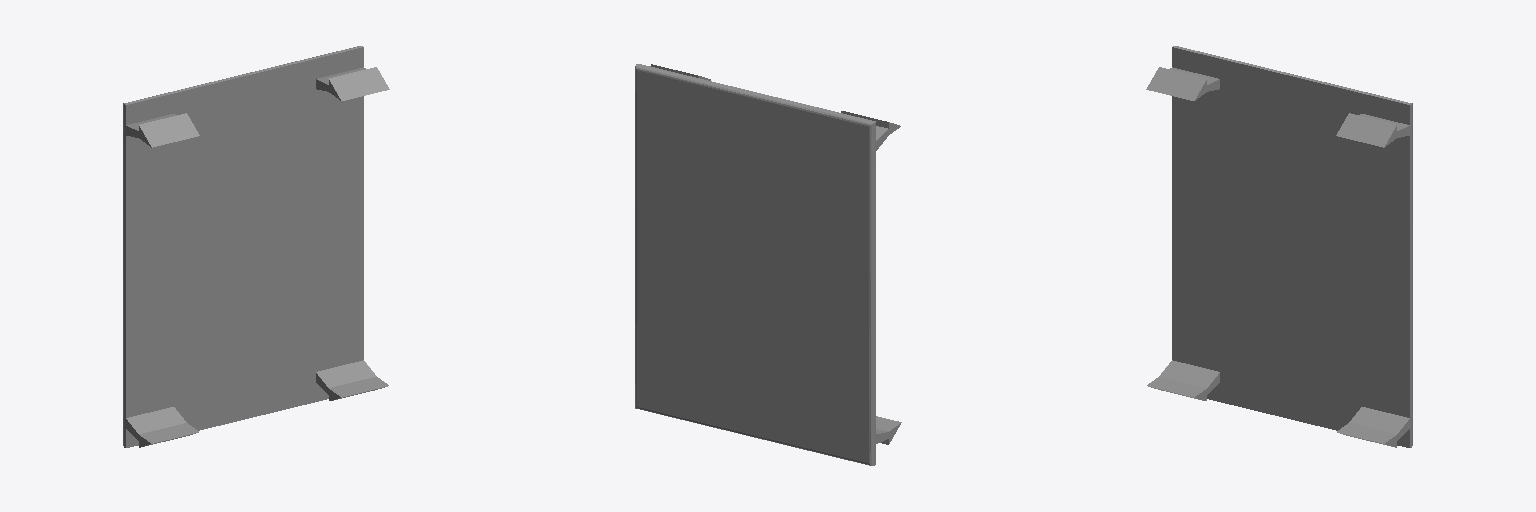
Rendered from Jaunais_Gabals.obj.
3 views of the same model, side by side, from view 1: azimuth 30°, elevation 25°; view 2: azimuth 150°, elevation 25°; view 3: azimuth 330°, elevation 25° (orthographic).
Parts seen in each view (by area): view 1: Jaunais_Gabals; view 2: Jaunais_Gabals; view 3: Jaunais_Gabals.
Part boxes in pixels (x1,y1,x2,y2): Jaunais_Gabals: (123,46,389,447); Jaunais_Gabals: (635,64,901,465); Jaunais_Gabals: (1146,46,1412,447).
Size of the model in its own units: 37 by 51 by 8.